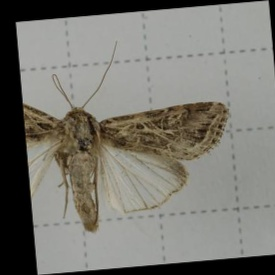Spodoptera litura: (25, 40, 230, 231)
